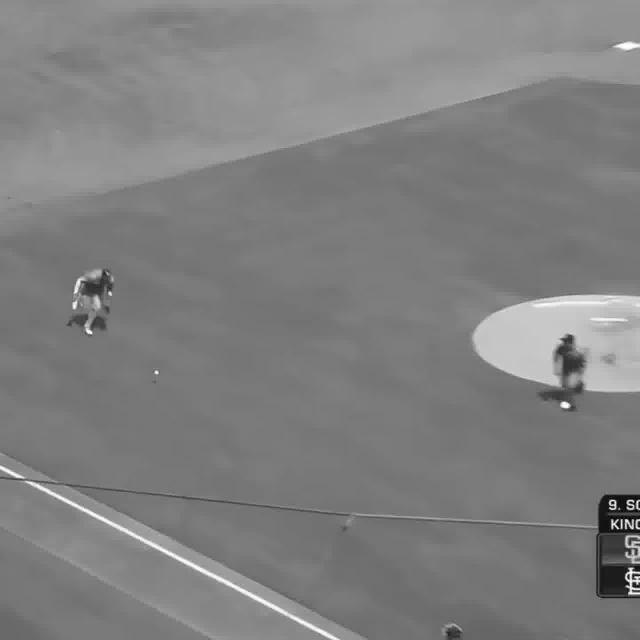base: (613, 41, 640, 50)
baseball: (153, 370, 161, 378)
